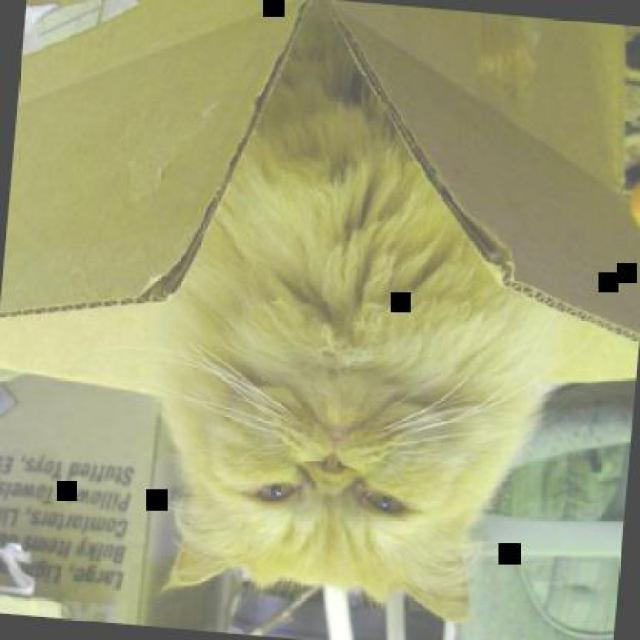cat: (132, 0, 585, 631)
